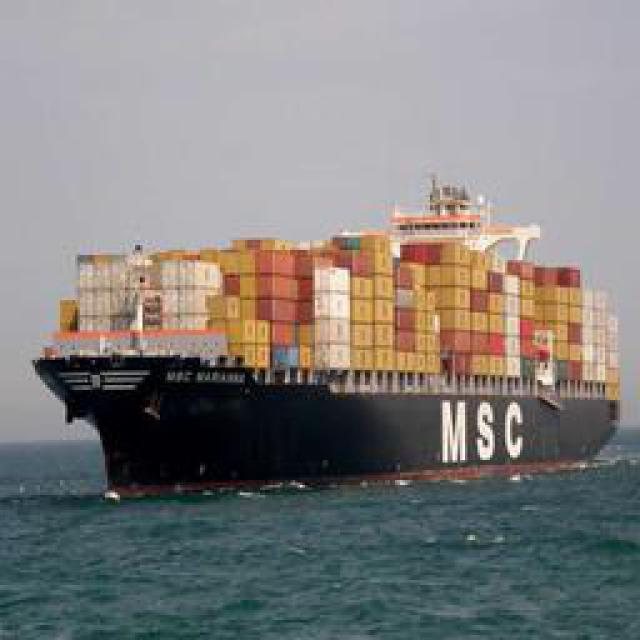Ship: (26, 271, 624, 491)
